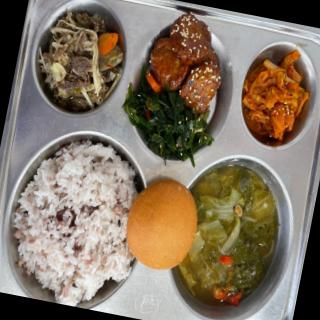Nasi: (1, 135, 141, 313)
